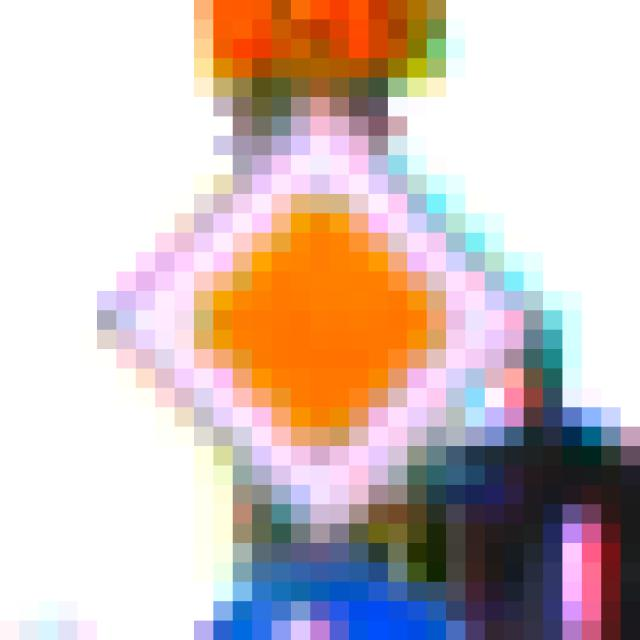Main Road: (98, 98, 544, 544)
